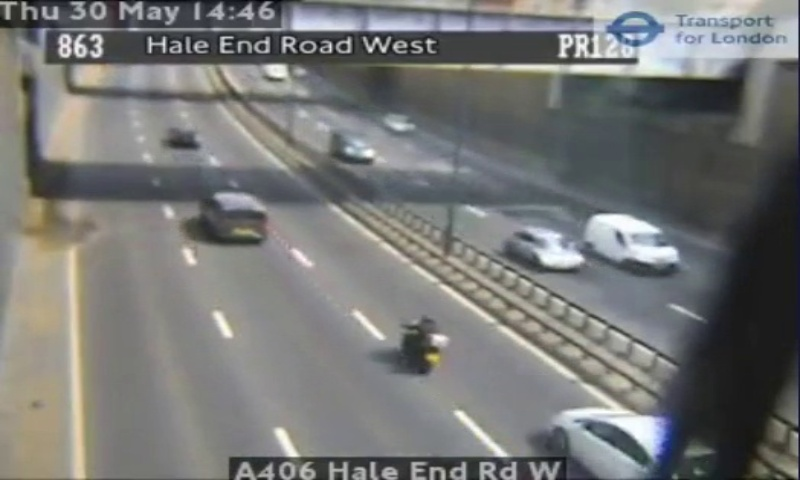motorcycle: (398, 313, 450, 376)
van: (201, 192, 267, 238)
